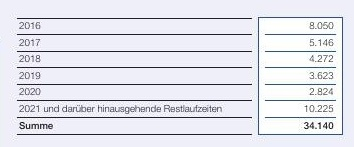table: (0, 0, 354, 147)
